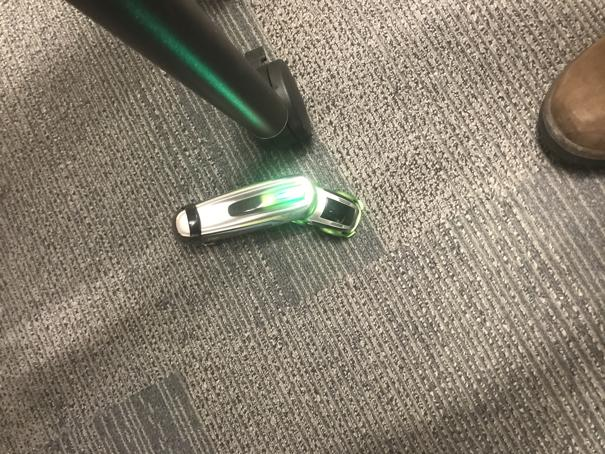Freewheel: (173, 174, 363, 249)
